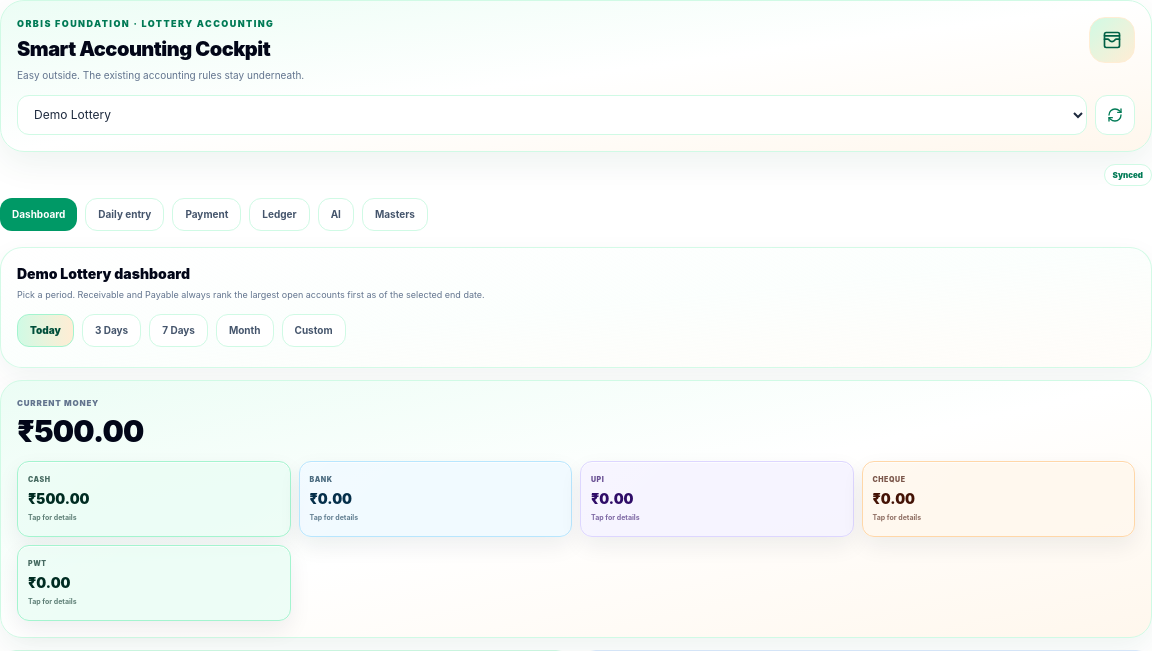
Test case: LotteryAccountingWorkspace › opens the create-organization form after selecting Create organization
Step 1. Select "Create organization" in the dropdown named "Accounting organization" → point(552, 115), box [17,95,1087,135]
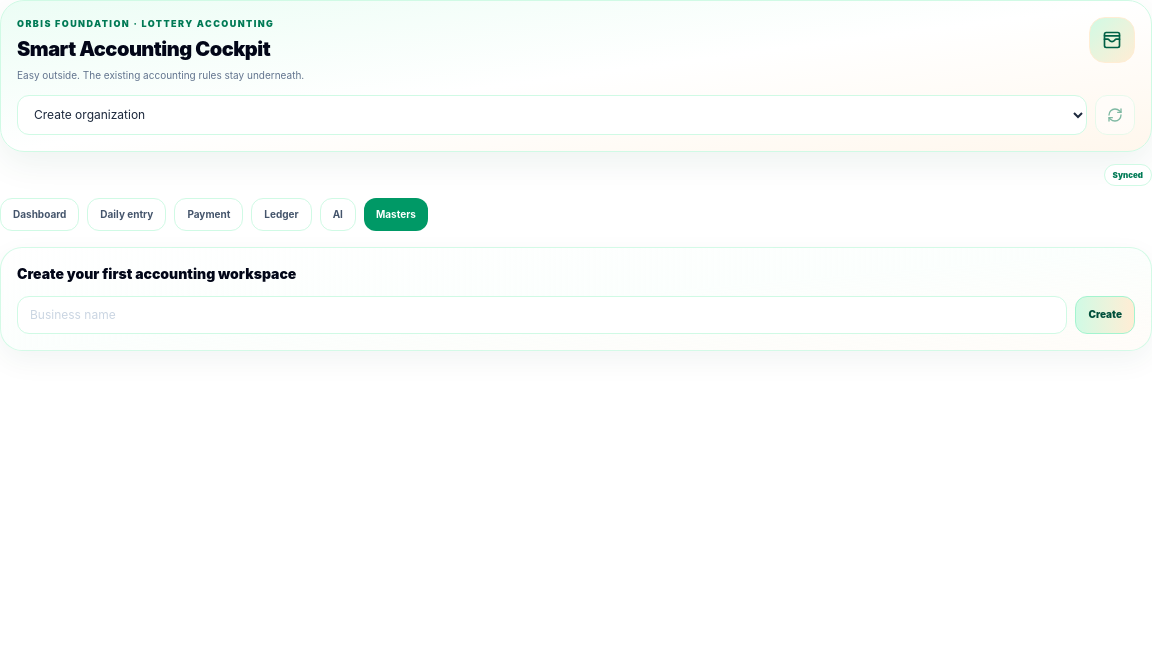
Expected: the heading "Create your first accounting workspace" is shown, [17,265,296,282]
Expected: the field named "Business organization name" is shown, [17,296,1067,334]
